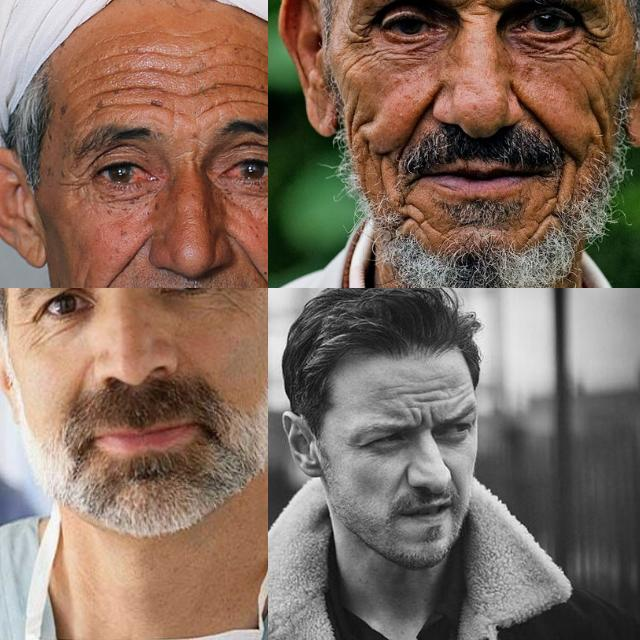chin: (535, 178, 565, 236), (400, 197, 440, 239)
crows_feet: (58, 156, 96, 204), (577, 24, 617, 61), (340, 19, 380, 55), (20, 306, 48, 342), (217, 288, 247, 300)
forehead: (161, 69, 219, 109), (163, 34, 209, 84), (99, 43, 149, 83), (223, 44, 268, 79), (225, 74, 268, 110), (96, 79, 144, 111), (398, 383, 448, 405), (456, 380, 472, 406)
frown_line: (460, 0, 500, 24), (416, 406, 434, 432)
gummy_smile: (102, 237, 149, 288), (518, 97, 570, 141), (402, 90, 438, 152), (237, 245, 268, 288), (395, 463, 409, 497)
masseter: (341, 101, 381, 161), (582, 90, 616, 146)
